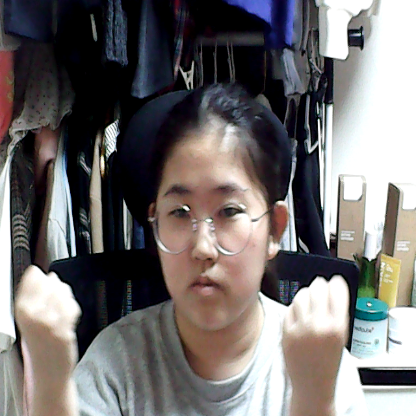Finger_0: (1, 250, 105, 392), (257, 263, 361, 391)
